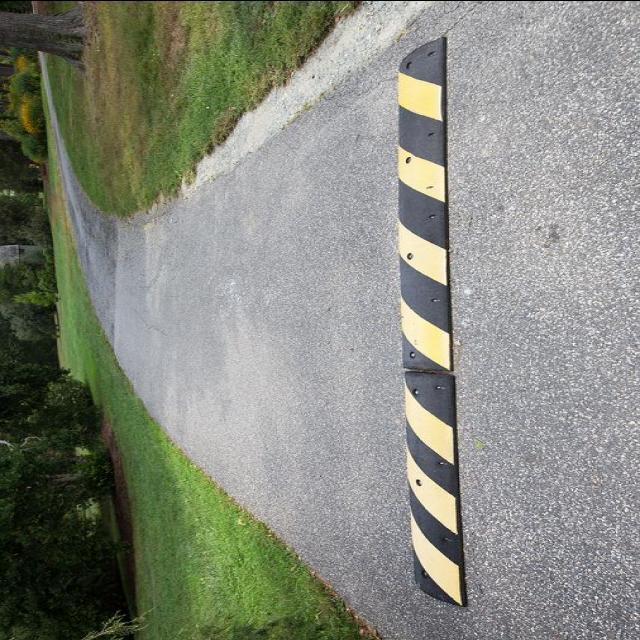speedbreaker: (374, 7, 484, 615)
